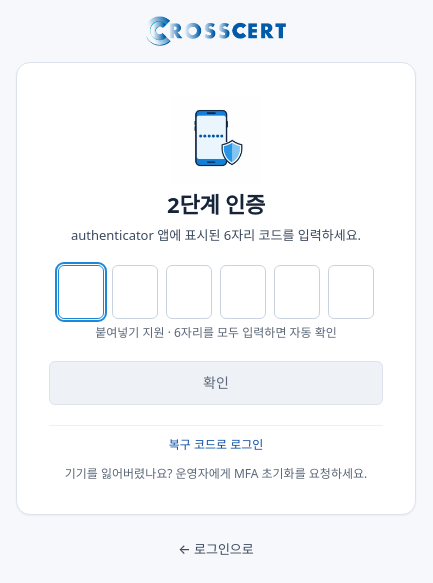
MfaChallenge V3 › 복구 코드가 틀리면 경고 + 복구 코드 칸을 비우고 포커스
Step 1. Click the button "복구 코드로 로그인" → click(216, 445), box x1=158 y1=430 x2=274 y2=460
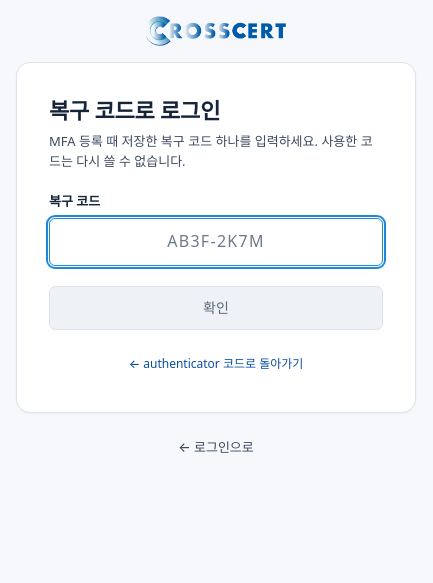
Step 2. Type "ab3f2k7m" into the field labelled "복구 코드" → (216, 242), box x1=49 y1=218 x2=383 y2=266
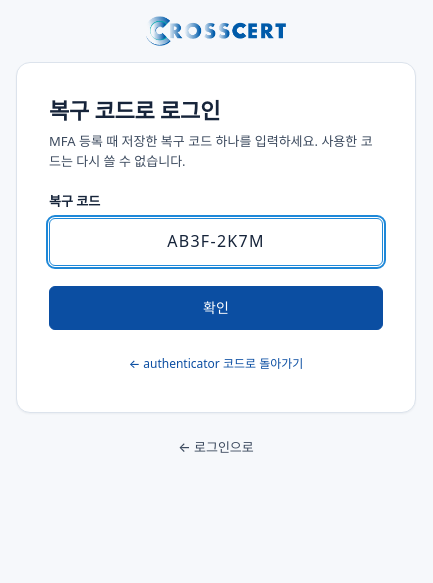
Step 3. Click the button "확인" → click(216, 308), box x1=49 y1=286 x2=383 y2=330
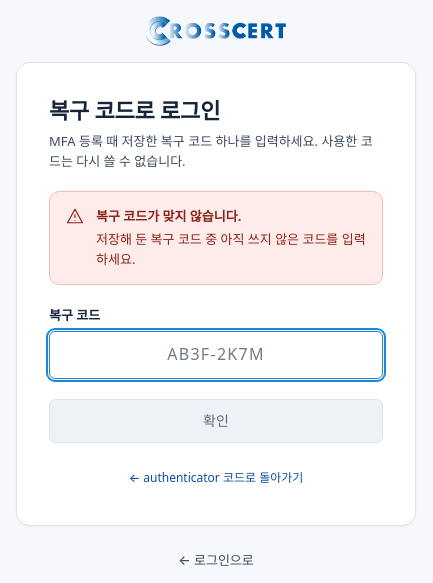
Expected: the message shows "복구 코드가 맞지 않습니다.", x1=96 y1=207 x2=241 y2=225
Expected: the field labelled "복구 코드" is empty, x1=49 y1=331 x2=383 y2=379
